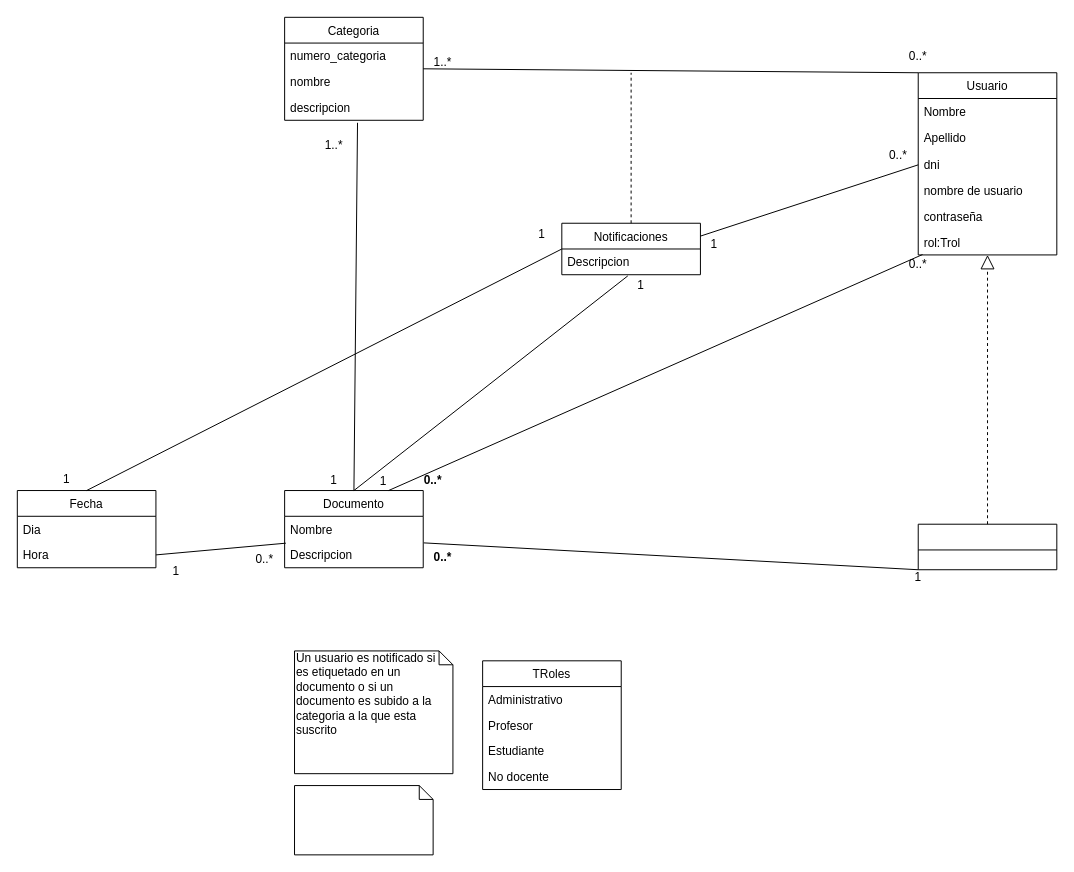
Image size: 1074x872. Some labels were removed from this diagram. The shapes that lost their labels are listed below. From the top down, each one's centre as x and y in pixels, then its label:
At point 987,546: "Admin".
At point 363,820: "Un admin puede subir un documento, pero cualquier admin es capaz de editarlo.".
